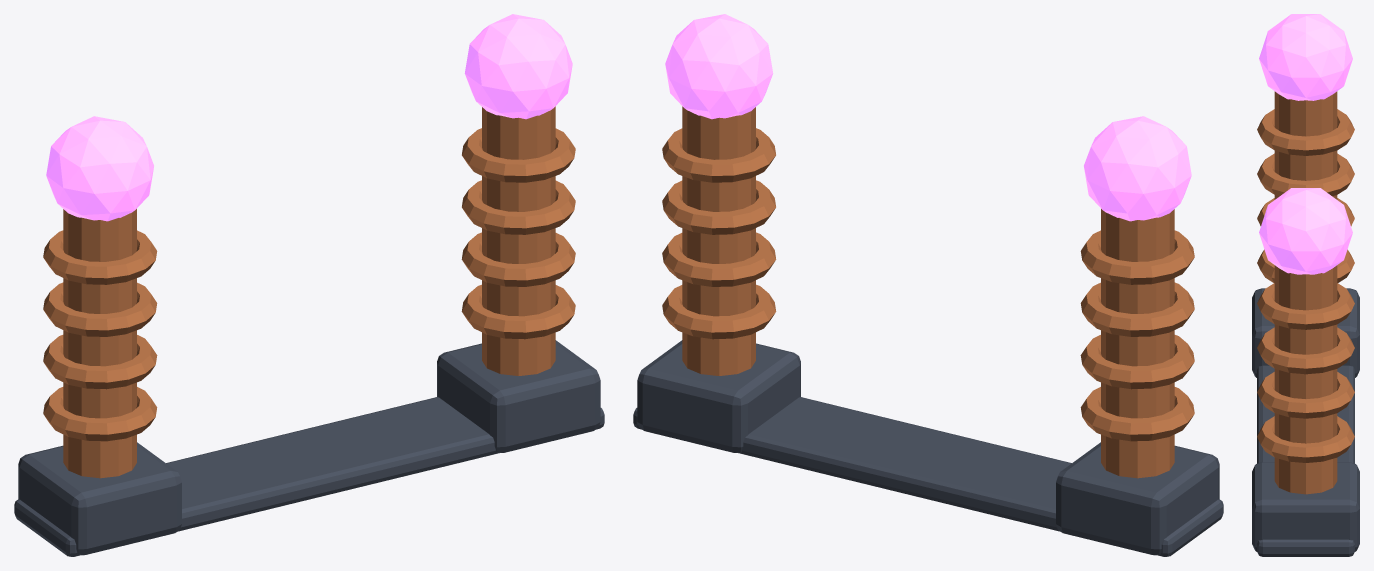
The model's file is trap_tesla.glb.
The picture shows the model from 3 angles, left to right: view 1: azimuth 30°, elevation 25°; view 2: azimuth 150°, elevation 25°; view 3: azimuth 270°, elevation 25°; orthographic projection. The views are drawn at different scales.
Visible parts, largest first — view 1: trap_tesla; view 2: trap_tesla; view 3: trap_tesla.
Part boxes in pixels (x1=…): trap_tesla: x1=14, y1=14, x2=604, y2=556; trap_tesla: x1=633, y1=14, x2=1223, y2=556; trap_tesla: x1=1252, y1=14, x2=1359, y2=556.
Size of the model in its own units: 2.7 by 1.94 by 0.55.
